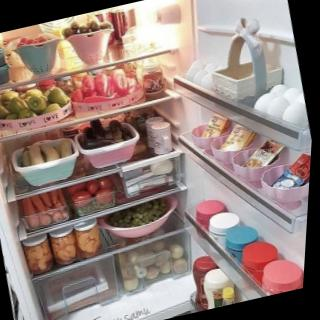Egg: (277, 96, 311, 134), (261, 90, 295, 128), (245, 85, 279, 123), (188, 66, 212, 86), (265, 78, 289, 98), (197, 72, 220, 92), (179, 63, 202, 83), (278, 88, 302, 106)
